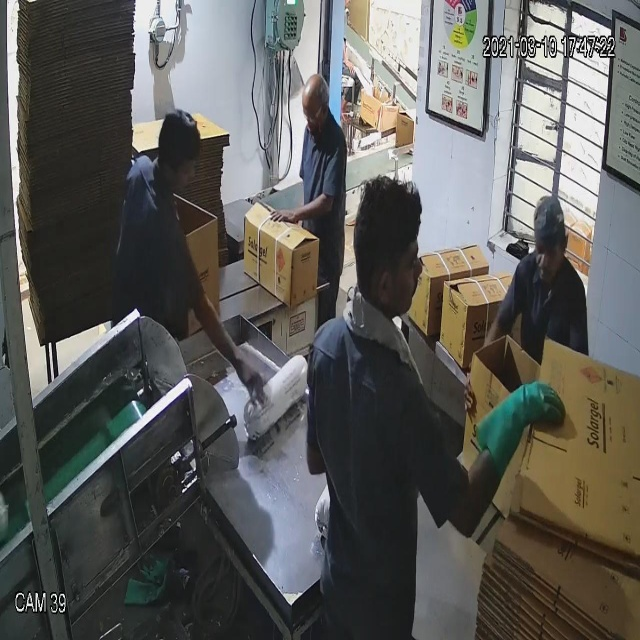Guantes: (470, 364, 569, 495)
Sin_guantes: (178, 276, 273, 420), (257, 183, 341, 244)
